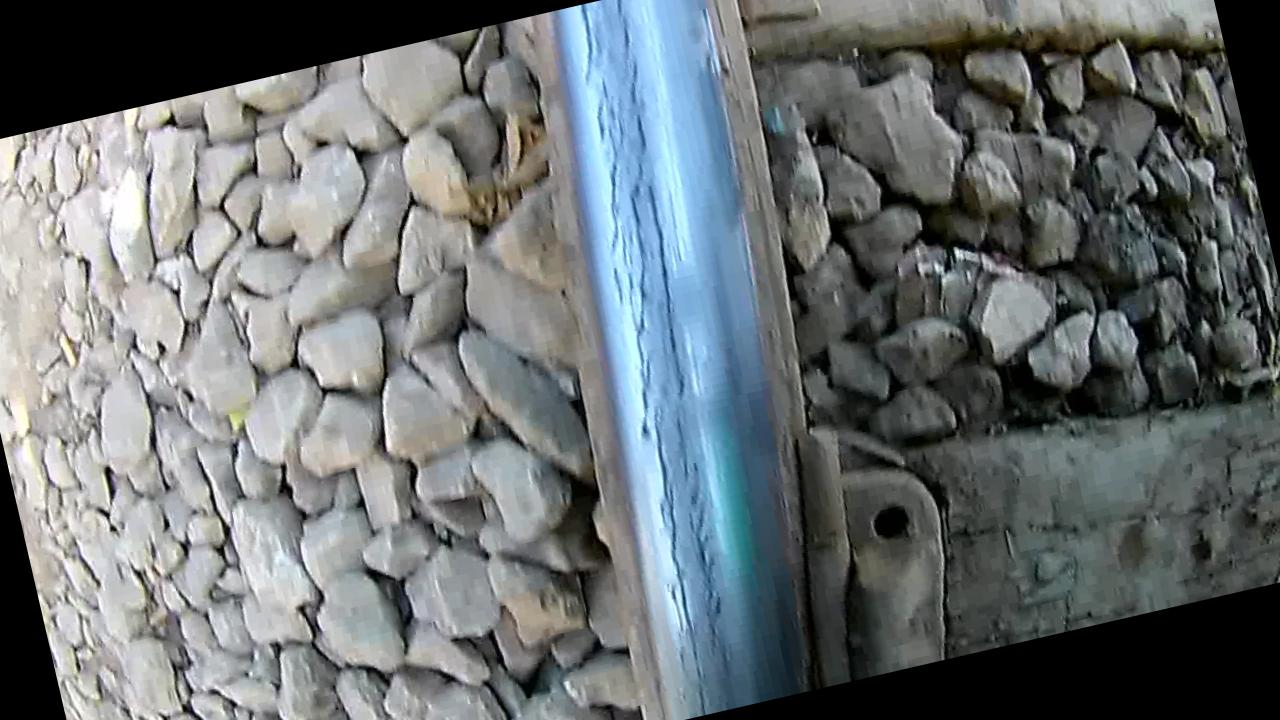normal_track: (530, 0, 806, 712)
